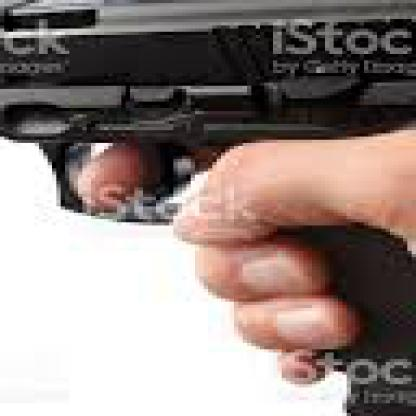gun: (0, 0, 412, 413)
